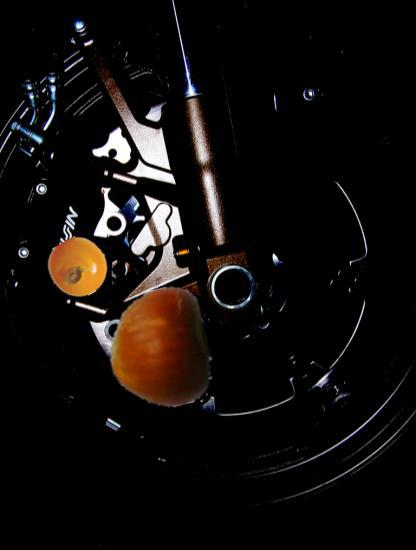Nut: (99, 290, 219, 410)
Physalis: (49, 238, 108, 297)
